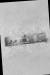N37: (2, 0, 48, 74)
